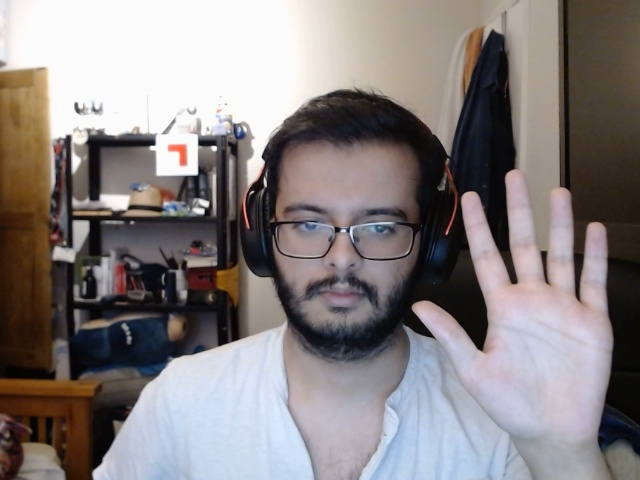Hello: (407, 166, 624, 456)
